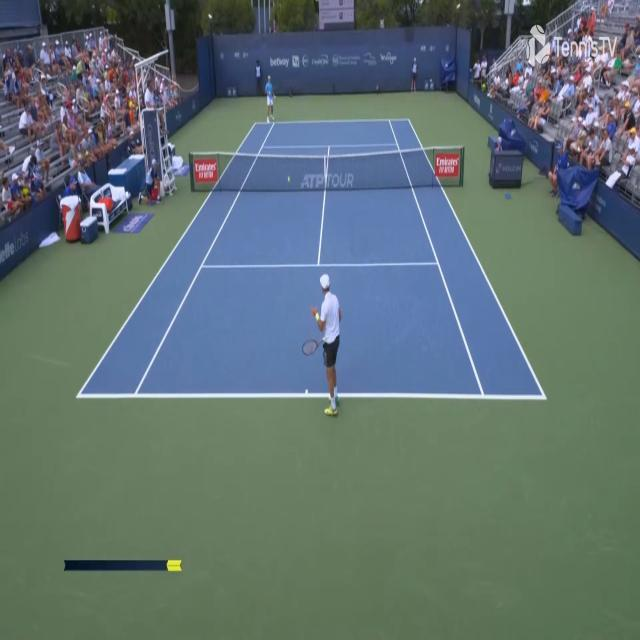tennis-player: (300, 268, 344, 422), (264, 74, 277, 125)
